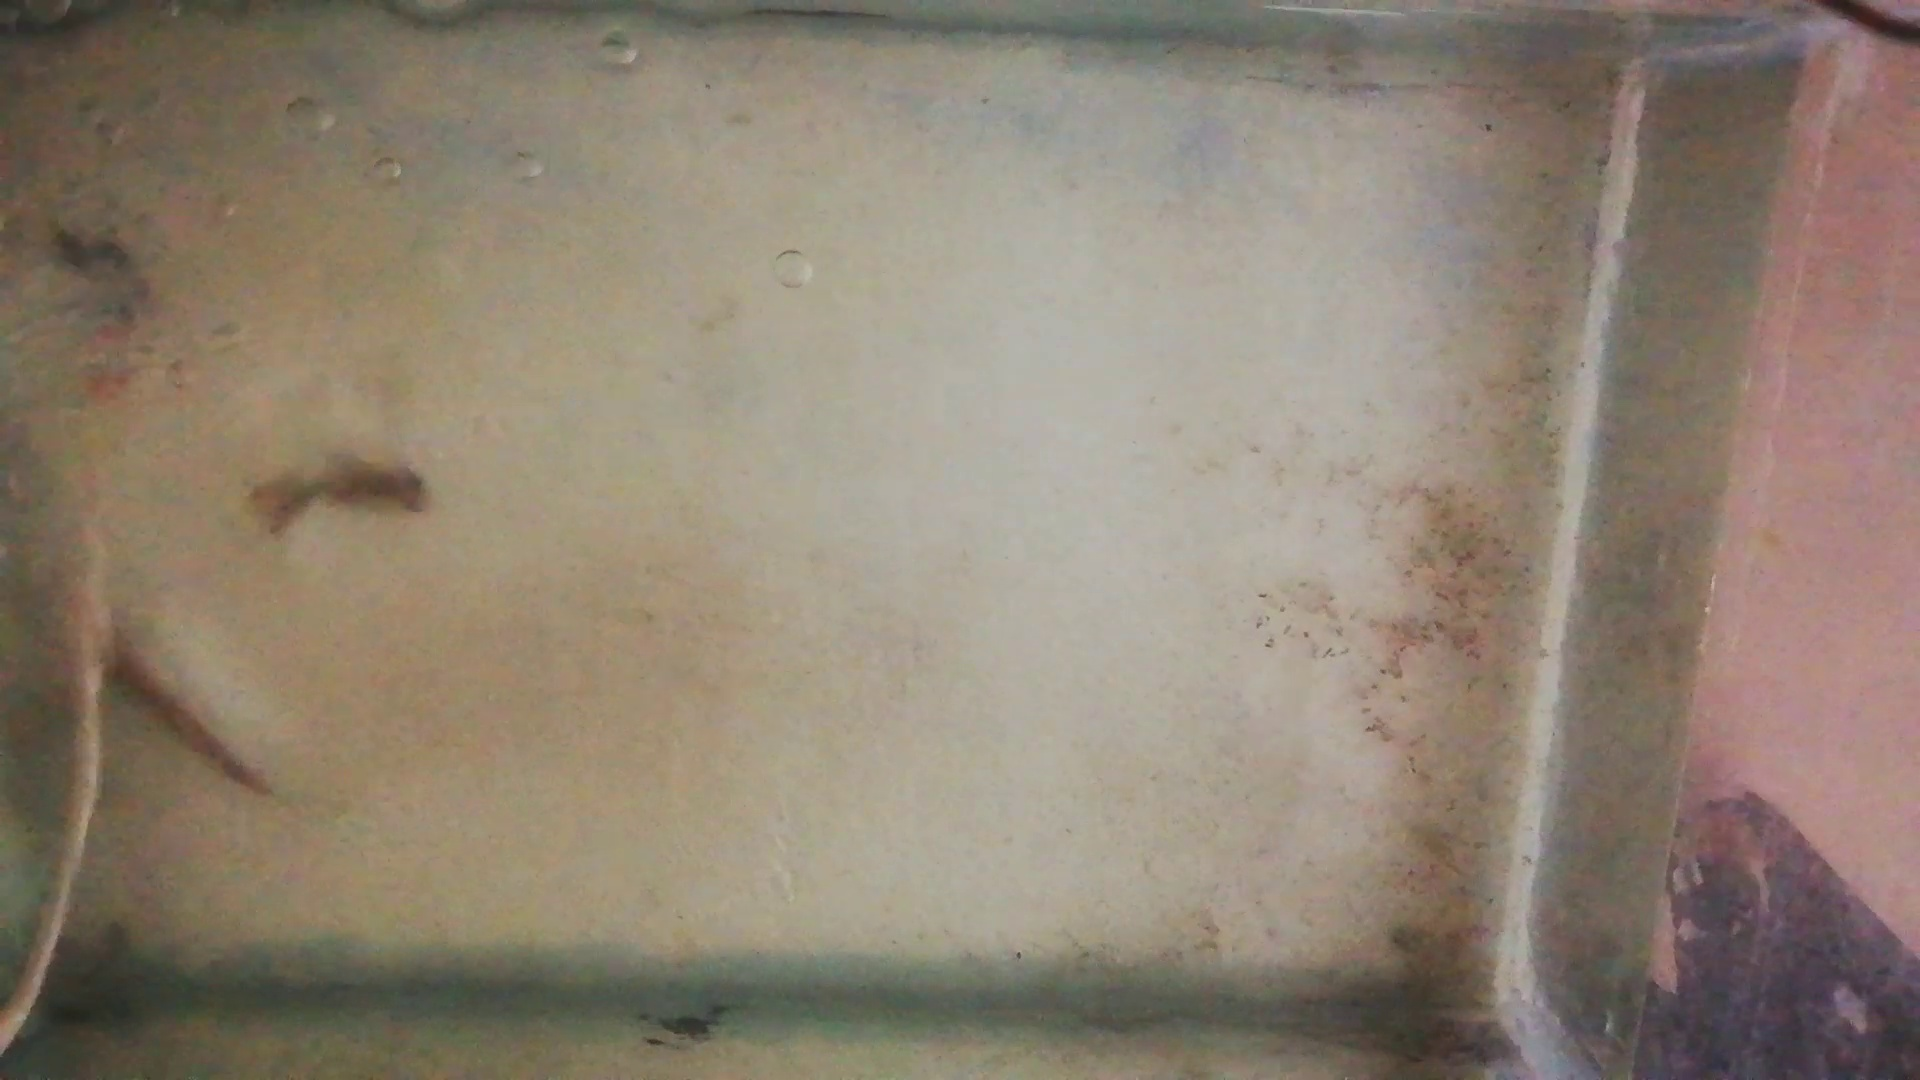fish: (102, 636, 277, 795), (255, 460, 431, 538)
